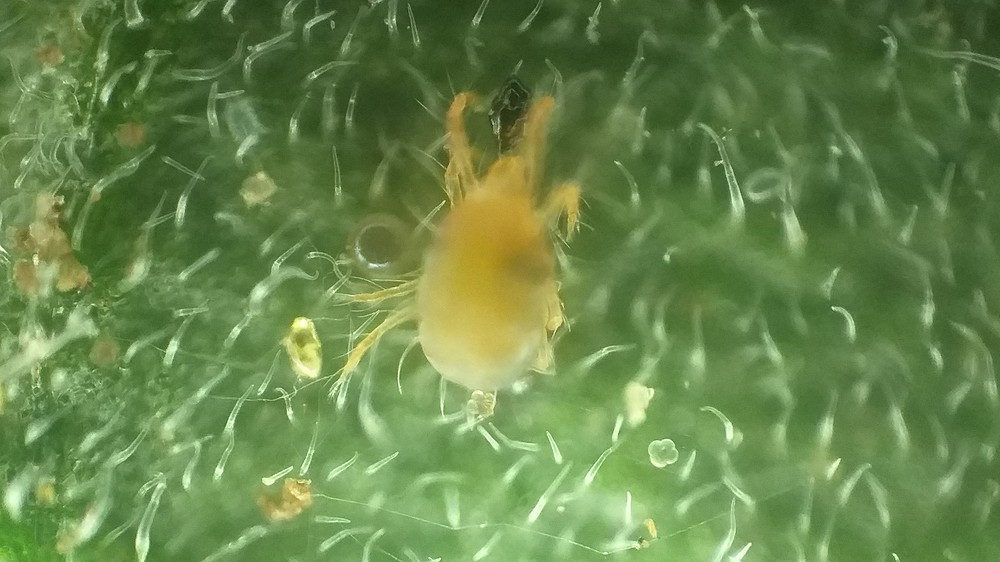Aracnido Rojo: (335, 62, 643, 479)
